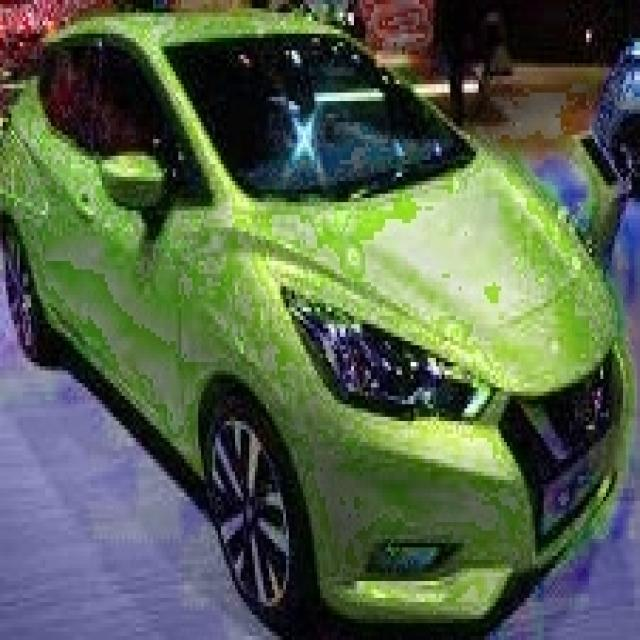green: (0, 8, 626, 640)
